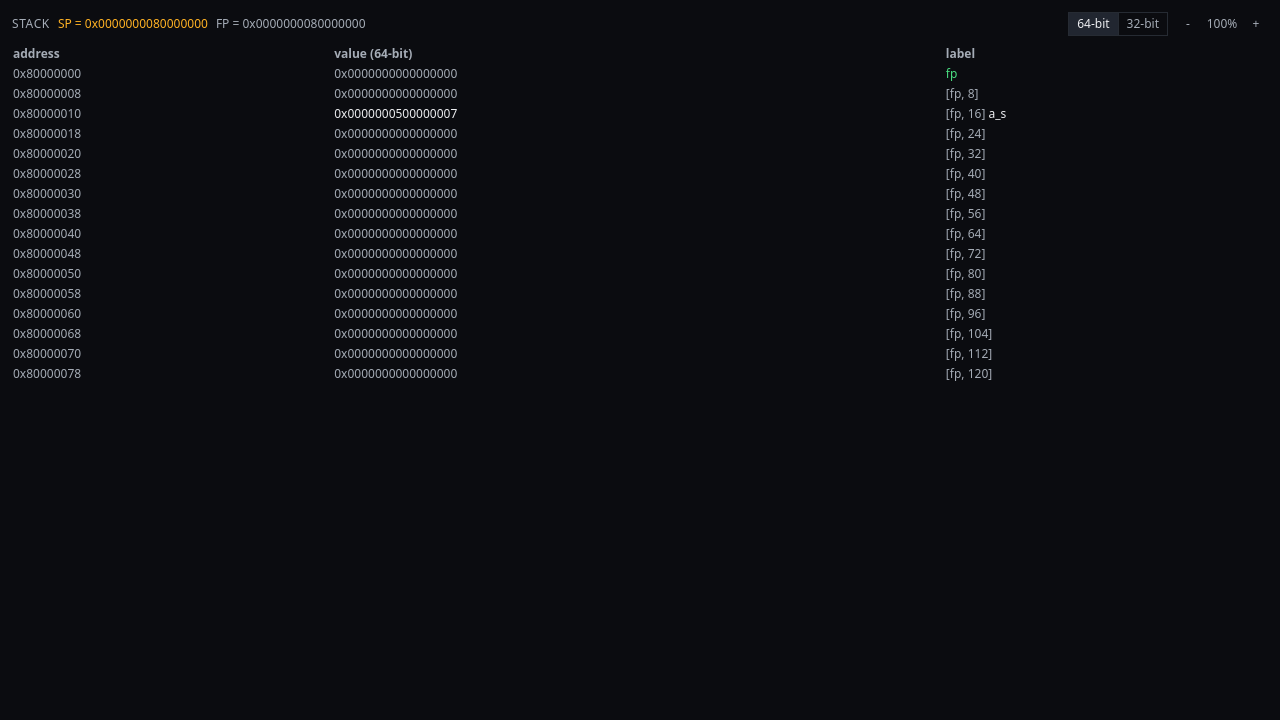
Scenario: StackPanel 32-bit slots › splits the same 128 bytes into 32 rows of 4, each local on its own row with its offset
Click the button "32-bit": click(1142, 24) [1118,13,1167,35]
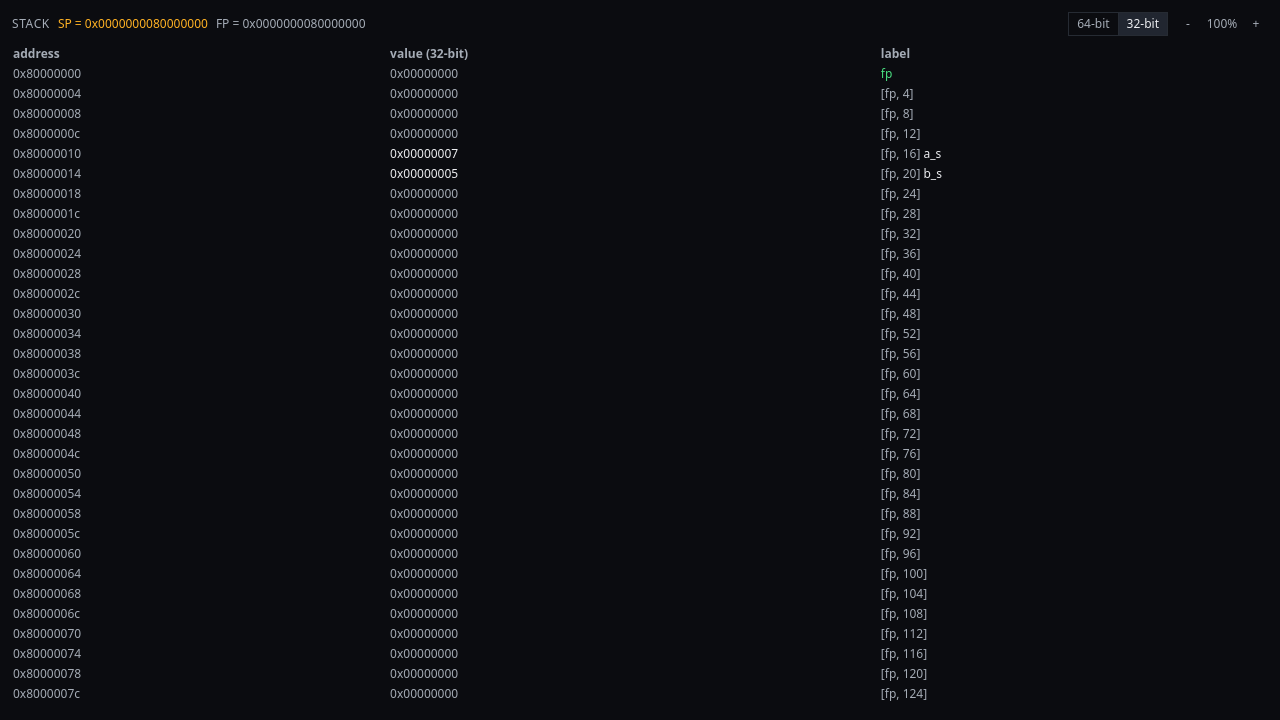
Expected: the column heading "value (32-bit)" is shown, [374,44,865,64]
Expected: the row "0x80000010 0x00000007 [fp, 16] a_s" is shown, [12,144,1268,164]
Expected: the row "0x80000014 0x00000005 [fp, 20] b_s" is shown, [12,164,1268,184]
